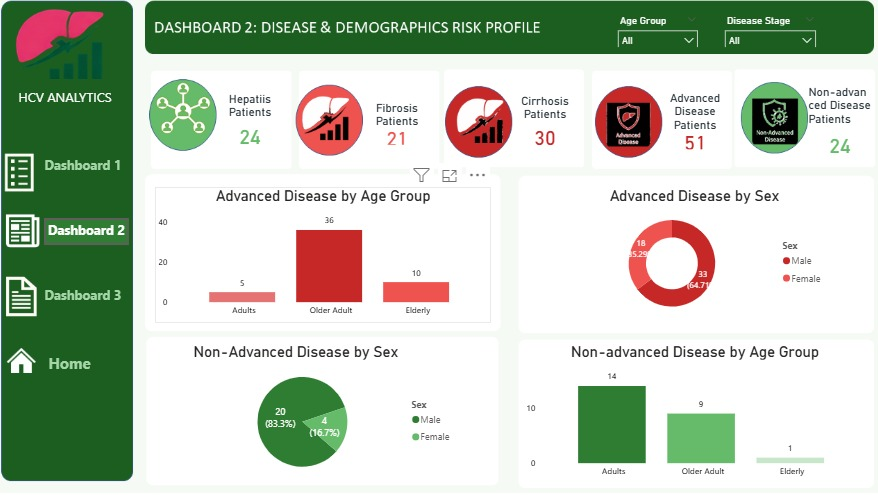

This screenshot's page, from the dashboard's own definition file:
{"tool":"powerbi","page":{"name":"Dashboard 2","canvas":[1280,720],"ordinal":1},"visuals":[{"type":"card","title":"Hepatiis Patients","fields":{"Values":["Hepatitis Measures.Hepatitis Patients"]},"box":[321.1,139.7,95,86.4],"z":0},{"type":"card","title":"Fibrosis Patients","fields":{"Values":["Hepatitis Measures.Fibrosis Patients"]},"box":[532.8,152.6,95,67.7],"z":1000},{"type":"card","title":"Cirrhosis Patients","fields":{"Values":["Hepatitis Measures.Cirrhosis Patients"]},"box":[748.8,142.6,89.3,83.5],"z":2000},{"type":"card","title":"Advanced Disease Patients","fields":{"Values":["Hepatitis Measures.Advanced Disease Pts"]},"box":[964.8,138.2,89.3,89.3],"z":3000},{"type":"clusteredColumnChart","title":"Advanced Disease by Age Group","fields":{"Category":["Hepatitis Project.Age Group"],"Y":["Hepatitis Measures.Advanced Disease Pts"]},"box":[231.8,276.5,483.8,195.8],"z":4000},{"type":"slicer","fields":{"Values":["Hepatitis Project.Age Group"]},"box":[888.5,23,135.4,51.8],"z":5000},{"type":"donutChart","title":"Advanced Disease by Sex","fields":{"Category":["Hepatitis Project.Sex"],"Y":["CountNonNull(Hepatitis Project.Disease Stage)"]},"box":[812.2,276.5,393.1,195.8],"z":6000},{"type":"clusteredColumnChart","title":"Non-advanced Disease by Age Group","fields":{"Category":["Hepatitis Project.Age Group"],"Y":["Hepatitis Measures.Non-Advanced Disease Pts"]},"box":[761.8,501.1,495.4,203],"z":7000},{"type":"card","title":"Non-advanced Disease Patients","fields":{"Values":["Hepatitis Measures.Non-Advanced Disease Pts"]},"box":[1167.8,129.6,100.8,115.2],"z":8000},{"type":"pieChart","title":"Non-Advanced Disease by Sex","fields":{"Y":["Hepatitis Measures.Non-Advanced Disease Pts"],"Category":["Hepatitis Project.Sex"]},"box":[282.2,501.1,388.8,203],"z":9000},{"type":"slicer","fields":{"Values":["Hepatitis Project.Disease Stage"]},"box":[1042.6,23,151.2,51.8],"z":10000},{"type":"textbox","box":[61.9,511.2,93.6,41.8],"z":11000},{"type":"textbox","box":[61.9,414.7,132.5,57.6],"z":12000},{"type":"textbox","box":[72,321.1,122.4,38.9],"z":13000},{"type":"textbox","box":[61.9,227.5,119.5,49],"z":14000},{"type":"textbox","box":[23,129.6,158.4,53.3],"z":15000},{"type":"actionButton","box":[61.9,227.5,119.5,38.9],"z":16000},{"type":"actionButton","box":[72,414.7,109.4,41.8],"z":17000},{"type":"actionButton","box":[72,319.7,122.4,40.3],"z":18000}]}

Visuals, with their boxes on the page's 1280x720 design canvas (x1, y1, x2, y2). These are canvas units, not pixel positions in the 878x495 screenshot, which may show the page scaled, cropped or inside an application window:
"Hepatiis Patients" card: box=[321, 140, 416, 226]
"Fibrosis Patients" card: box=[533, 153, 628, 220]
"Cirrhosis Patients" card: box=[749, 143, 838, 226]
"Advanced Disease Patients" card: box=[965, 138, 1054, 228]
"Advanced Disease by Age Group" clusteredColumnChart: box=[232, 276, 716, 472]
slicer - Hepatitis Project.Age Group: box=[888, 23, 1024, 75]
"Advanced Disease by Sex" donutChart: box=[812, 276, 1205, 472]
"Non-advanced Disease by Age Group" clusteredColumnChart: box=[762, 501, 1257, 704]
"Non-advanced Disease Patients" card: box=[1168, 130, 1269, 245]
"Non-Advanced Disease by Sex" pieChart: box=[282, 501, 671, 704]
slicer - Hepatitis Project.Disease Stage: box=[1043, 23, 1194, 75]
textbox: box=[62, 511, 156, 553]
textbox: box=[62, 415, 194, 472]
textbox: box=[72, 321, 194, 360]
textbox: box=[62, 228, 181, 276]
textbox: box=[23, 130, 181, 183]
actionButton: box=[62, 228, 181, 266]
actionButton: box=[72, 415, 181, 456]
actionButton: box=[72, 320, 194, 360]
